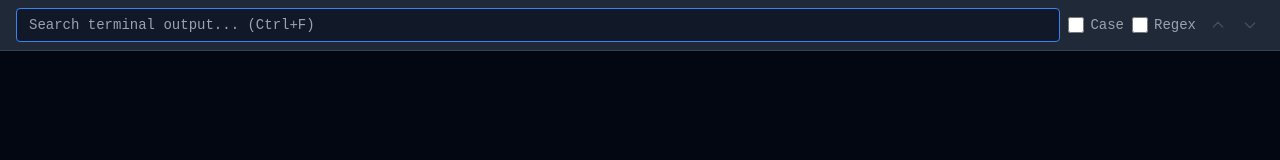
Test: SearchBar › Search Input › should show clear button when query exists
Type "test" into the field with placeholder "Search terminal output... (Ctrl+F)". click: x=538, y=25
box: 16,8 -> 1060,42
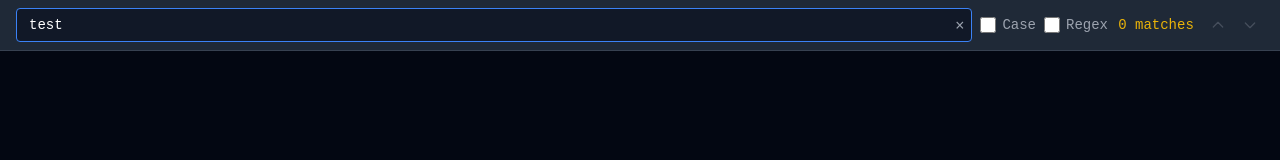
expect the button named "clear search" is shown: met, box 955,13 -> 964,37
